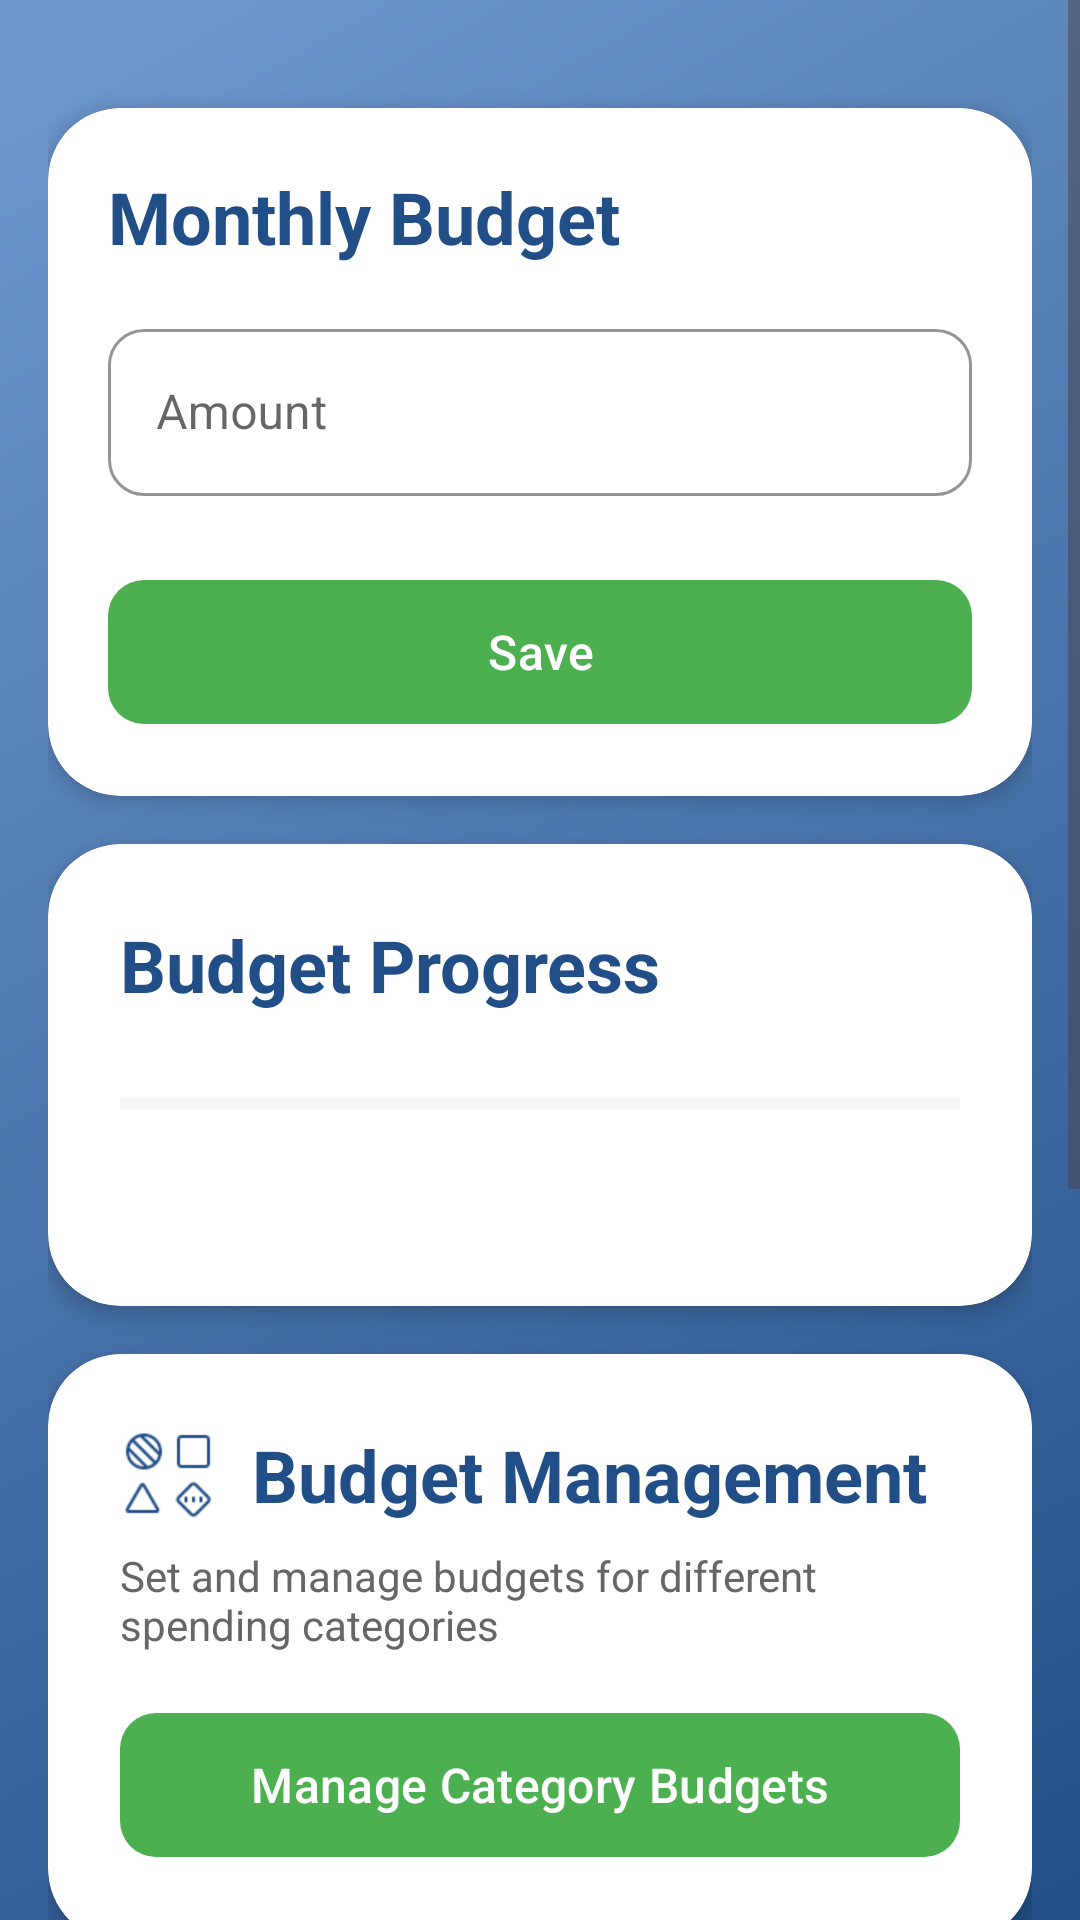

Named icons in this screenshot (1080 × 1920) and their centers, (x=x, y=y):
category: (x=168, y=1475)
